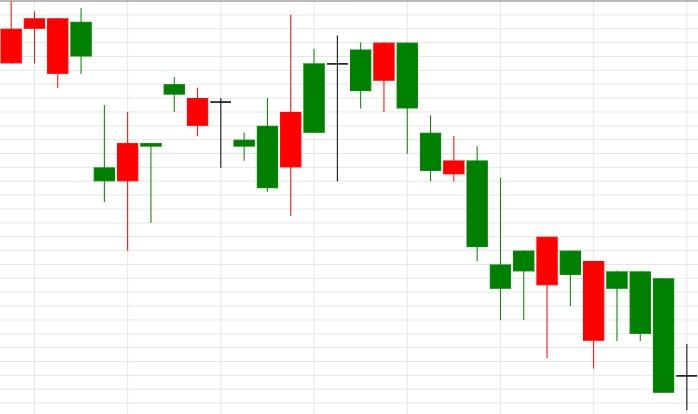bullish_engulfing_rise: (396, 43, 558, 358)
